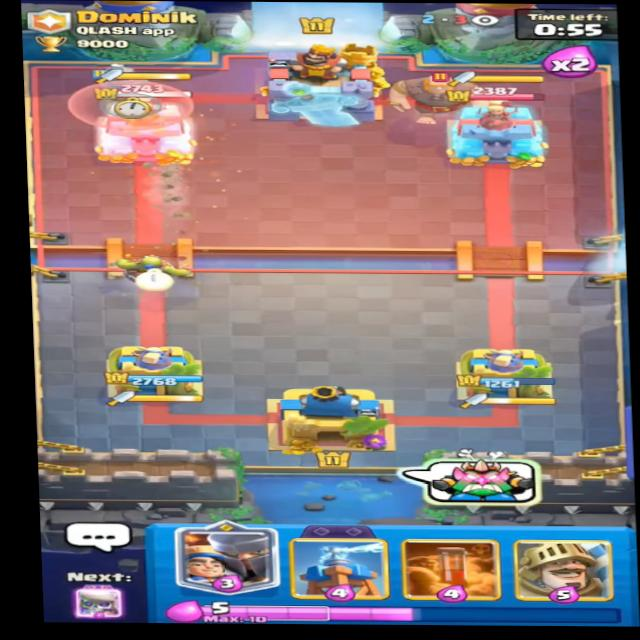giant: (376, 66, 492, 125)
